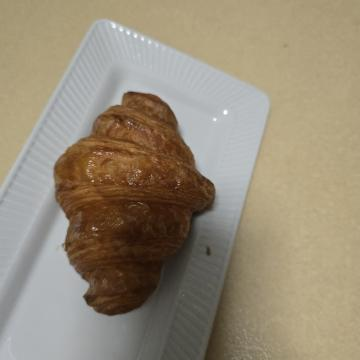croissant: (75, 137, 327, 319)
